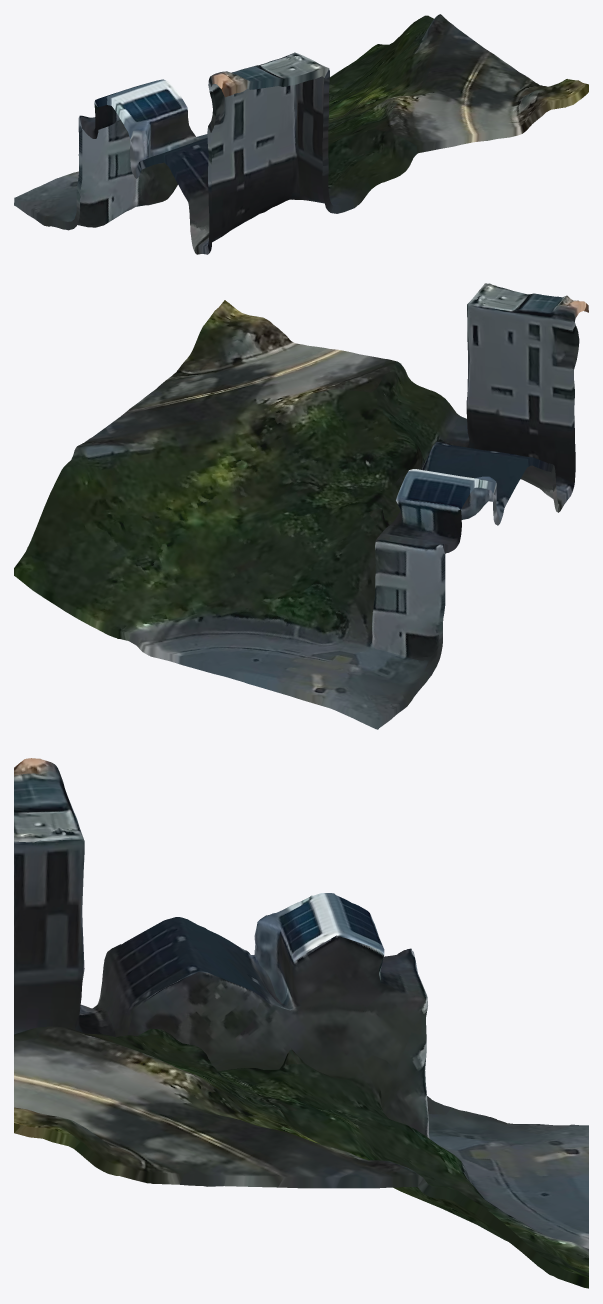
File: z20-167754-405197-h0-yup-uvflip-v3-world.glb
The picture shows the model from 3 angles, top to bottom: view 1: azimuth 30°, elevation 25°; view 2: azimuth 150°, elevation 25°; view 3: azimuth 270°, elevation 25°; orthographic projection. The views are drawn at different scales.
Size of the model in its own units: 30.2 by 22 by 30.32.
1 material, 1 textured.
